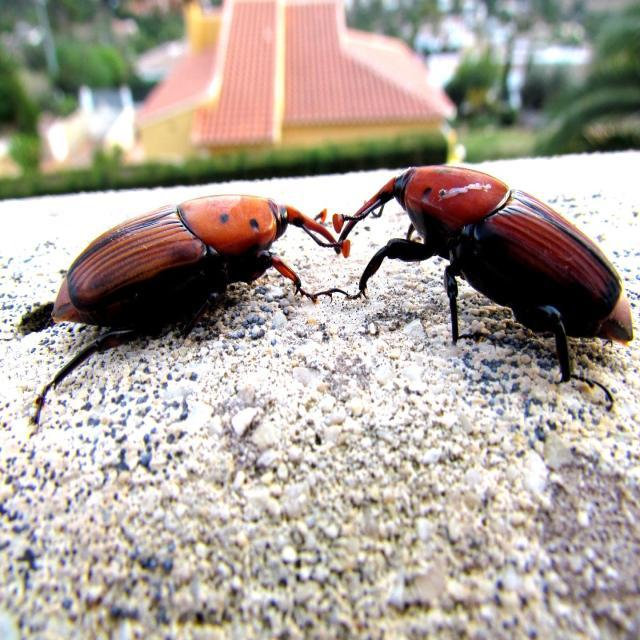Red-palm-weevil: (362, 156, 632, 361), (25, 189, 312, 338)
